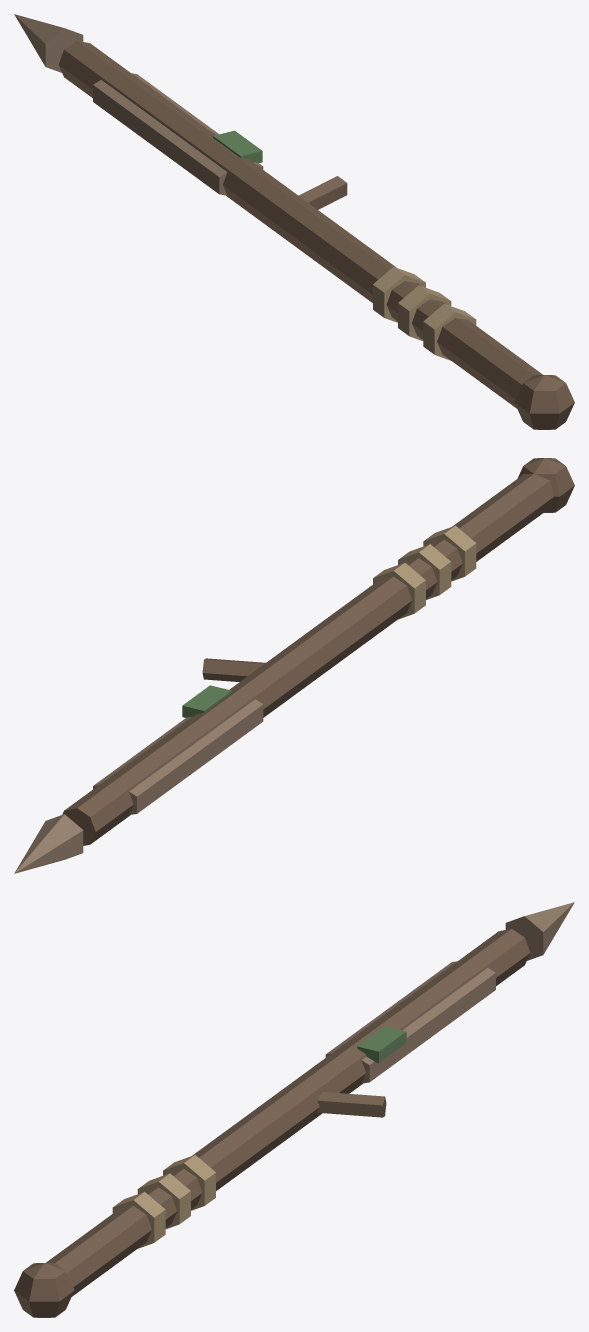
The model's file is DF_StarterStick.fbx.
3 views of the same model, one above another, from view 1: azimuth 30°, elevation 25°; view 2: azimuth 150°, elevation 25°; view 3: azimuth 330°, elevation 25° (orthographic).
Visible parts, largest first — view 1: DF_StarterStick; view 2: DF_StarterStick; view 3: DF_StarterStick.
Boxes of the visible parts, x1,y1,x2,y2 form: DF_StarterStick: (14,14,574,429); DF_StarterStick: (14,458,574,873); DF_StarterStick: (14,902,574,1317).
Bounding box in the file's own units: 0.4267 × 0.24 × 4.32.
